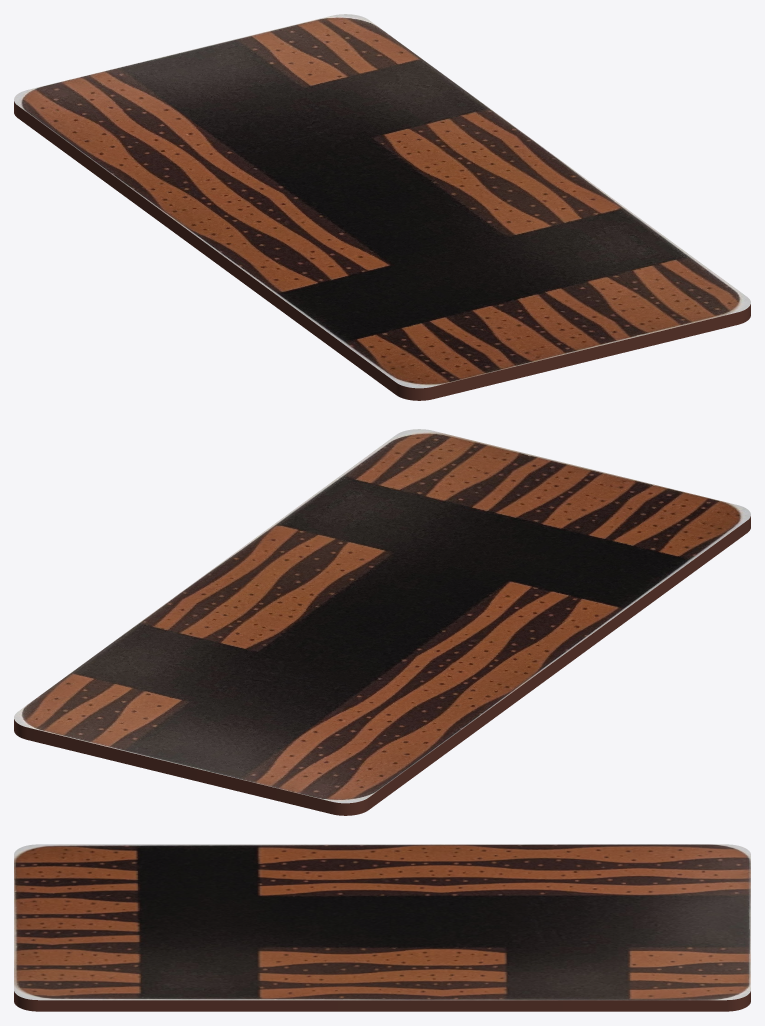
3 renders of one model, top to bottom at view 1: azimuth 30°, elevation 25°; view 2: azimuth 150°, elevation 25°; view 3: azimuth 270°, elevation 25°, orthographic. The views are drawn at different scales.
Visible parts, largest first — view 1: g7; view 2: g7; view 3: g7.
Part boxes in pixels (x1,y1,x2,y2): g7: [14, 14, 750, 400]; g7: [14, 429, 750, 815]; g7: [14, 844, 750, 1011].
Bounding box in the file's own units: 0.044 × 0.0015 × 0.088.
3 materials, 2 textured.
